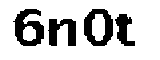0: (84, 6, 115, 52)
6: (9, 7, 45, 52)
n: (48, 15, 81, 51)
t: (116, 12, 142, 50)
